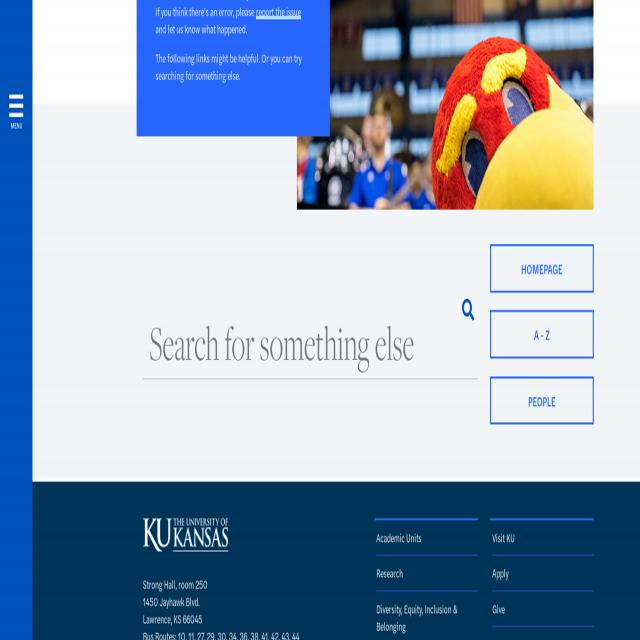button: (490, 243, 594, 292), (490, 310, 594, 358), (490, 378, 594, 425), (143, 517, 228, 551), (5, 85, 29, 138), (462, 299, 474, 320)
field: (144, 312, 476, 376)
